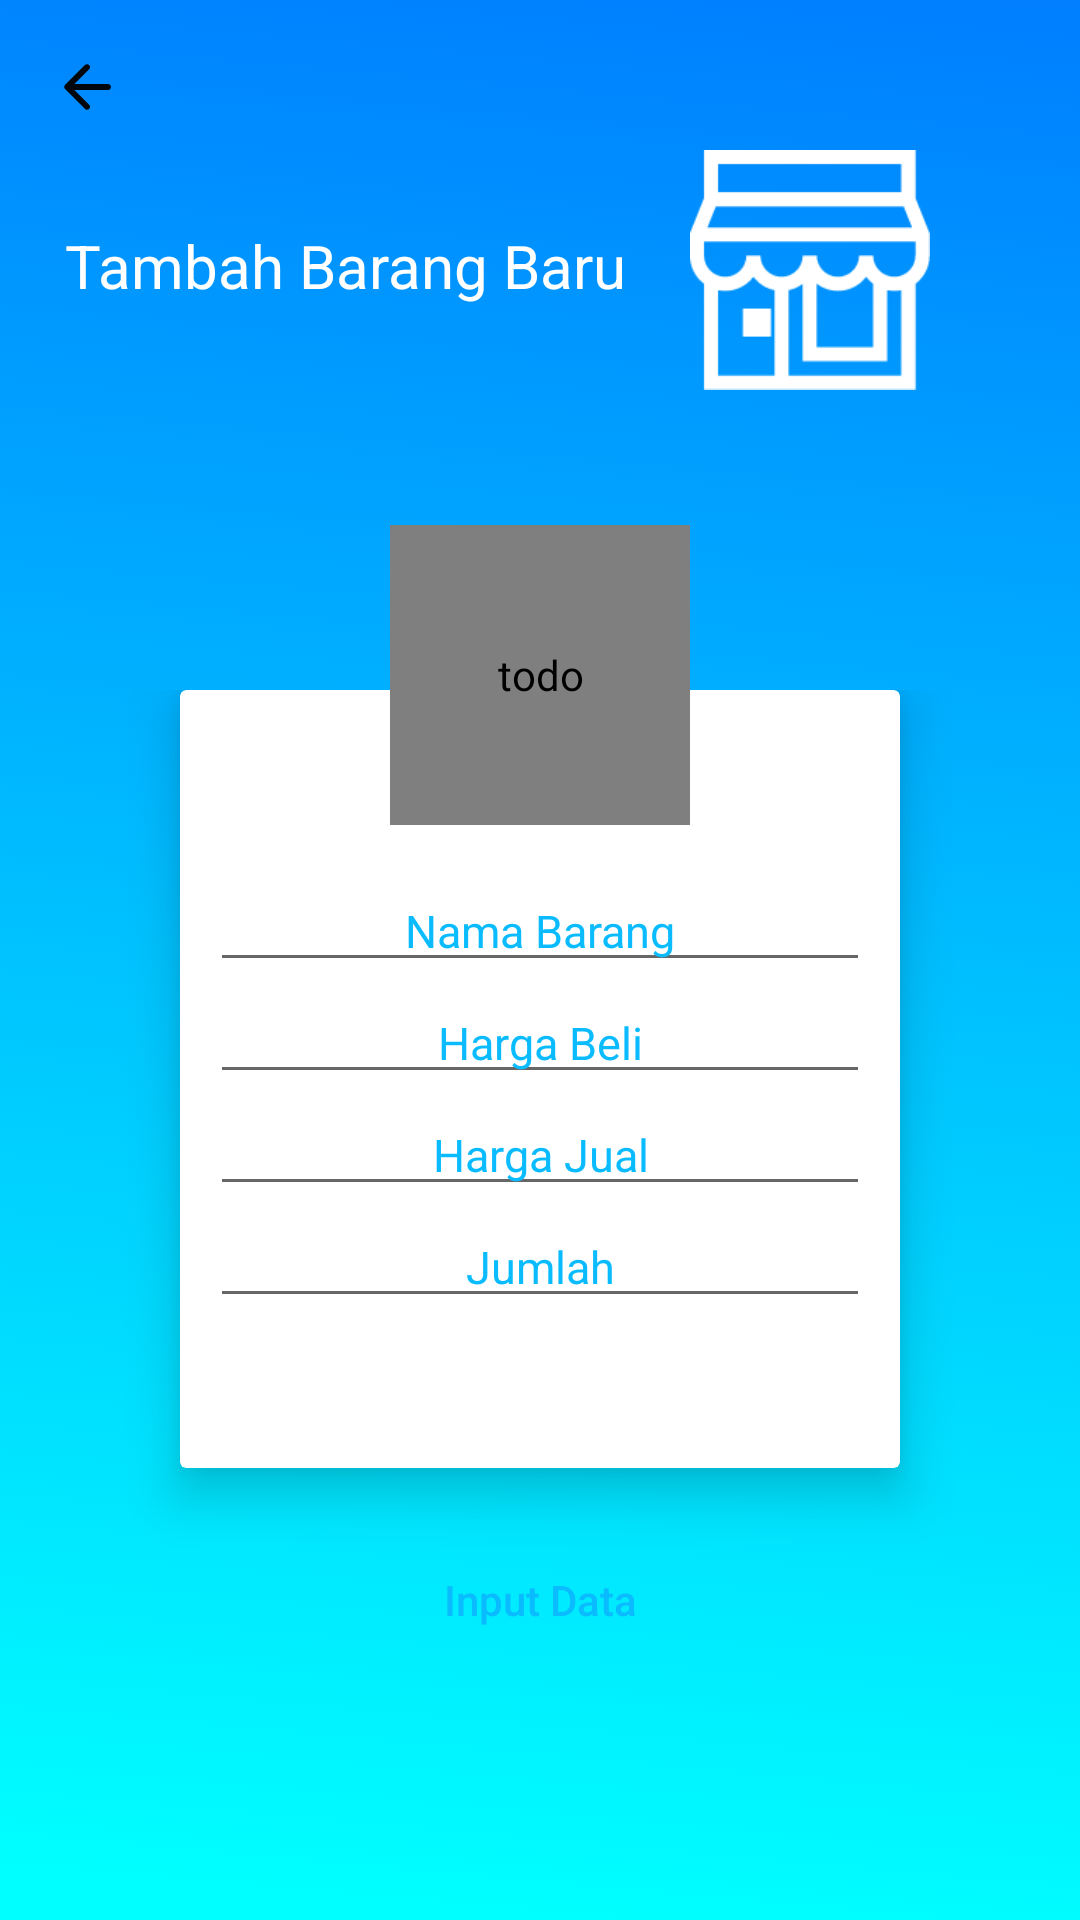

Icon click points for this 1080px×1920px phone screenshot, format point (x, y):
back: point (87, 87)
store: point (810, 270)
